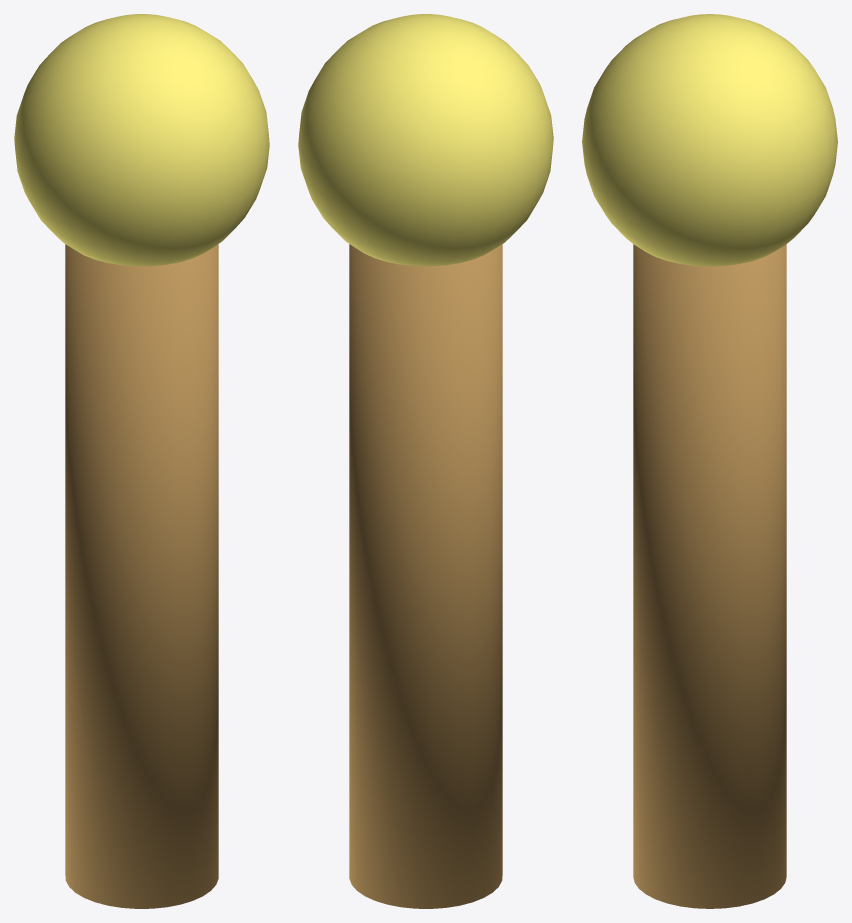
File: torch.glb
The picture shows the model from 3 angles, left to right: view 1: azimuth 30°, elevation 25°; view 2: azimuth 150°, elevation 25°; view 3: azimuth 270°, elevation 25°; orthographic projection.
Parts seen in each view (by area): view 1: Cylinder; view 2: Cylinder; view 3: Cylinder.
Part boxes in pixels (x1,y1,x2,y2): Cylinder: [14, 14, 269, 908]; Cylinder: [298, 14, 553, 908]; Cylinder: [582, 14, 837, 908].
Size of the model in its own units: 0.06 by 0.22 by 0.06.
